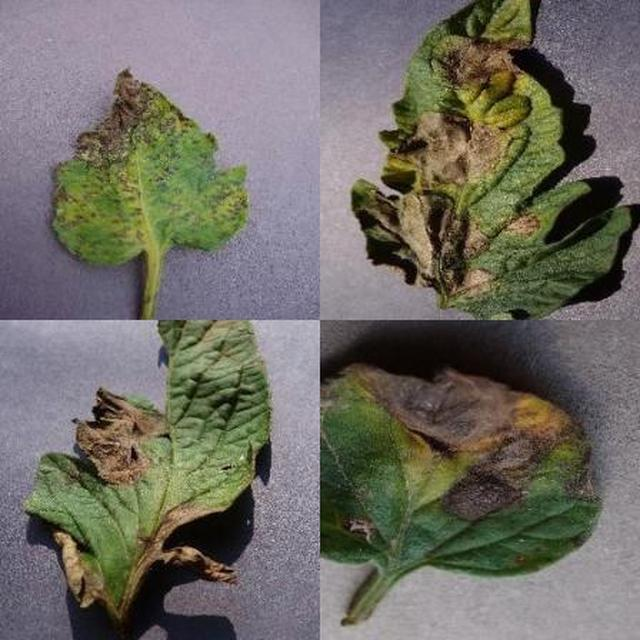Septoria Leaf: (210, 229, 640, 640)
